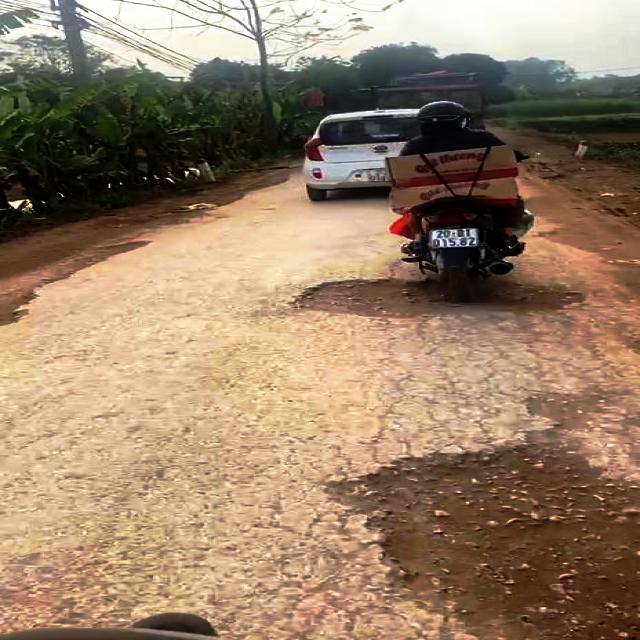pothole: (320, 425, 640, 640), (0, 237, 160, 331), (292, 276, 590, 320)
